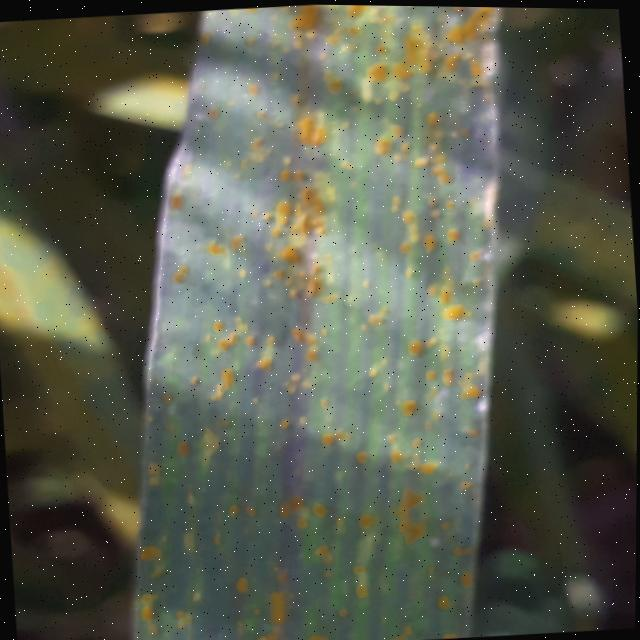orang_rust: (76, 1, 575, 640)
